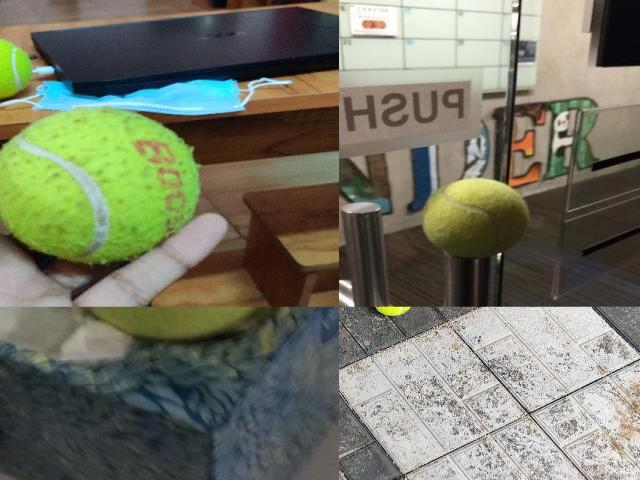tennis-ball: (0, 108, 200, 262), (420, 177, 530, 258), (64, 306, 275, 340), (0, 36, 32, 100), (372, 306, 412, 316)
